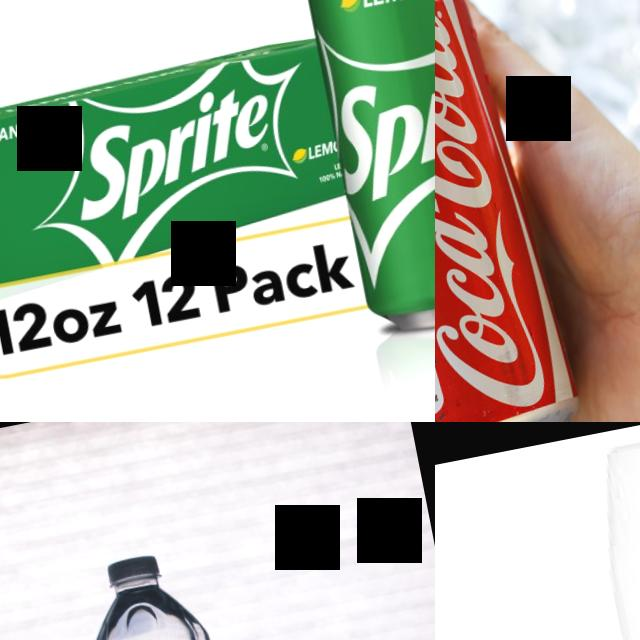bottle: (73, 546, 270, 640)
can: (435, 0, 595, 422), (291, 0, 435, 343)
